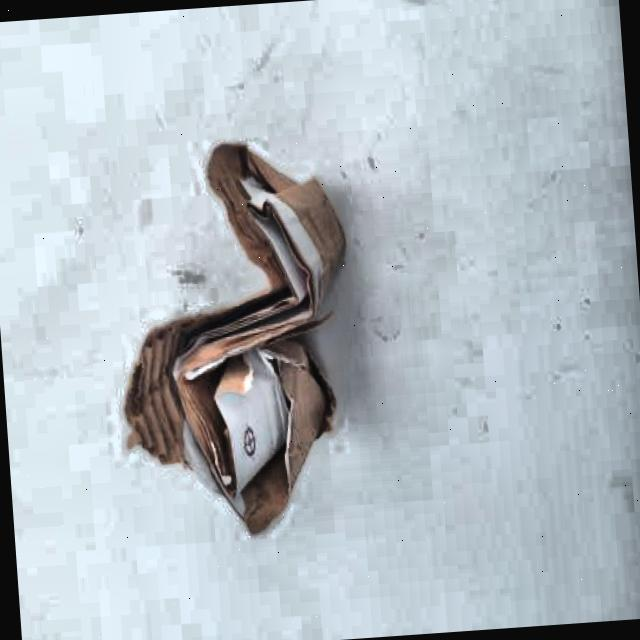cardboard: (109, 135, 366, 542)
